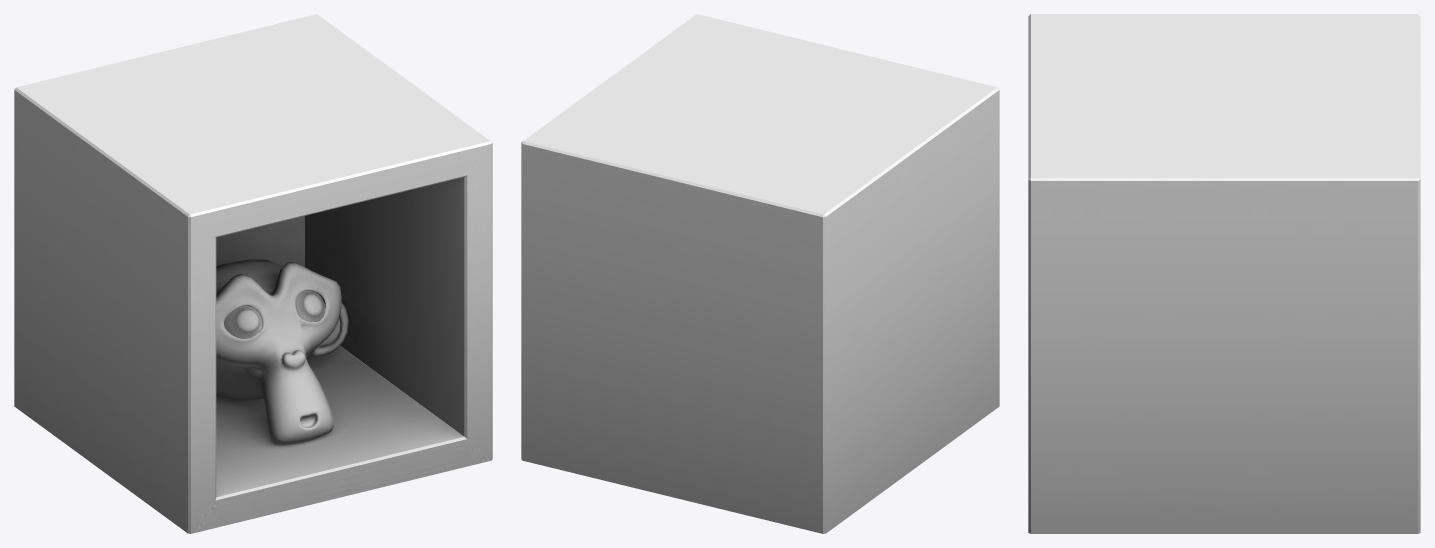
Rendered from AO-Baked-Test.gltf.
3 renders of one model, left to right at view 1: azimuth 30°, elevation 25°; view 2: azimuth 150°, elevation 25°; view 3: azimuth 270°, elevation 25°, orthographic. The views are drawn at different scales.
Visible parts, largest first — view 1: Cube, Suzanne; view 2: Cube; view 3: Cube.
Boxes of the visible parts, <box> form: Cube: <box>14,14,492,533</box>; Suzanne: <box>216,259,348,444</box>; Cube: <box>521,14,999,533</box>; Cube: <box>1028,14,1420,533</box>.
Size of what is drawn, in the model's own units: 1 by 1 by 1.
Materials: 2 (2 with a texture image).
